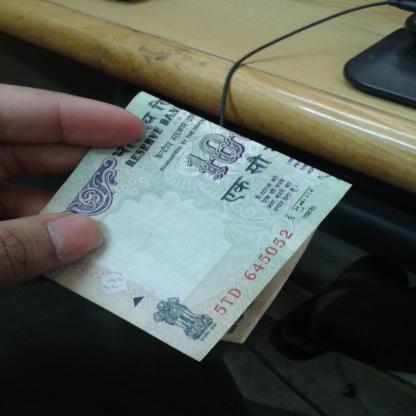Old100Front: (35, 88, 352, 361)
